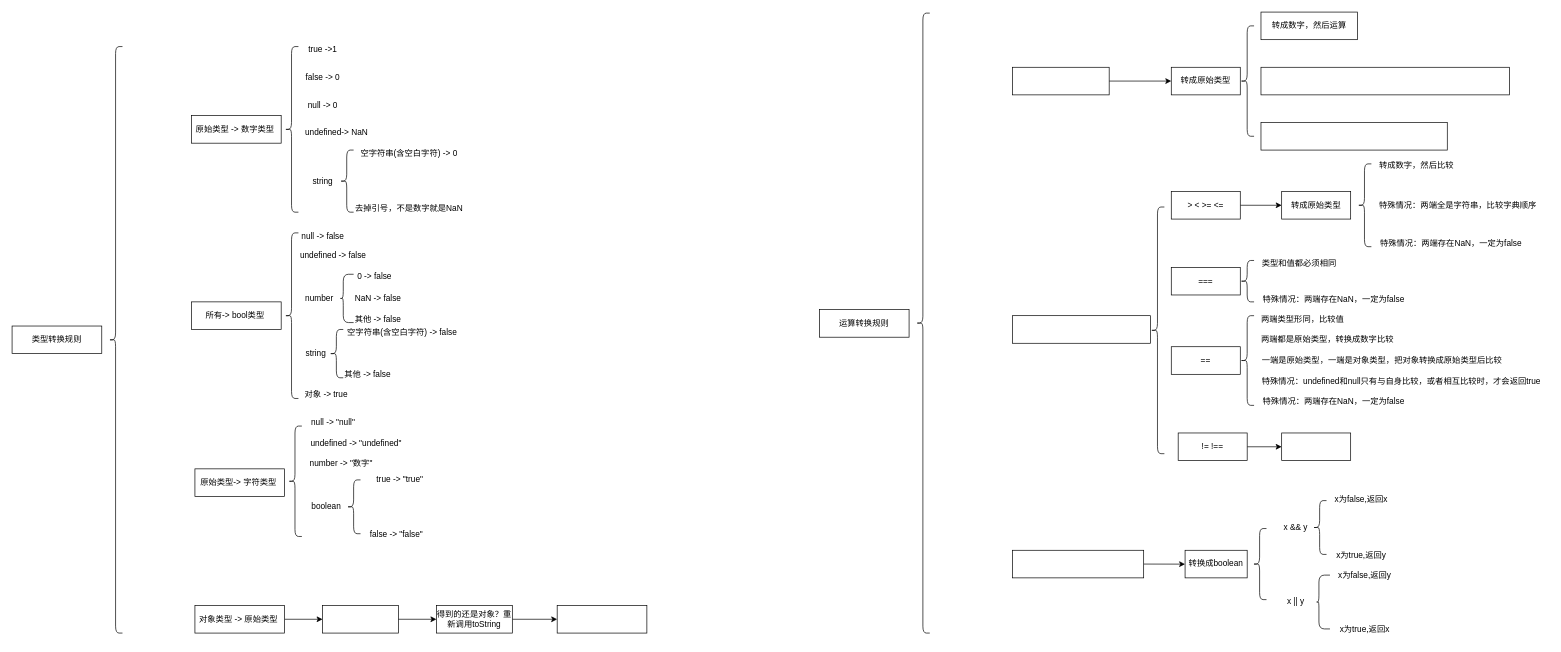
Some shapes in this 1561 by 652 pixel diagram are drawn without their labels. Each missing label, with the centre of its shape:
"对相等取反" goes at (1316,446).
"得到的还是对象？报错" goes at (601,619).
"比较运算(> < >= <= == != === !==)" goes at (1081,329).
"特殊情况：NaN和任何类型运算得到的还是NaN" goes at (1353,136).
"特殊情况：x+y,x和y有一个是字符串。转换为字符串，然后拼接" goes at (1384,81).
"算数运算(+ - * / % ++ --)" goes at (1060,81).
"调用valueOf" goes at (360,619).
"逻辑运算(! && || ?)" goes at (1078,564).
